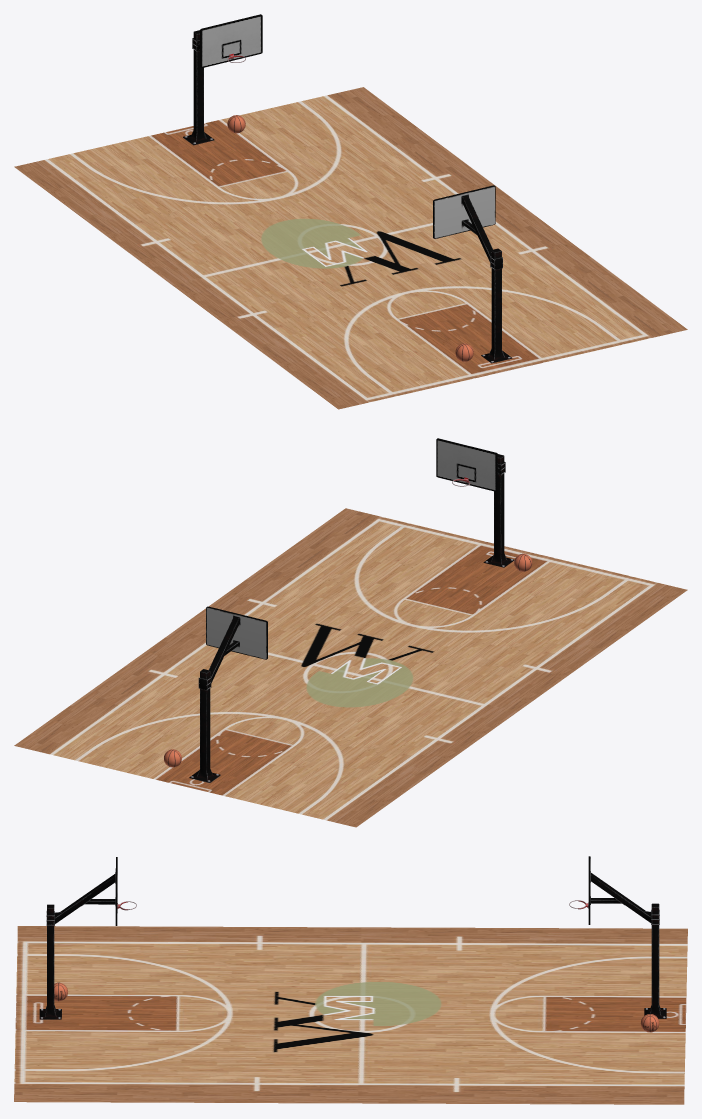
The model's file is bballcourt-western.gltf.
3 renders of one model, top to bottom at view 1: azimuth 30°, elevation 25°; view 2: azimuth 150°, elevation 25°; view 3: azimuth 270°, elevation 25°, orthographic. The views are drawn at different scales.
Visible parts, largest first — view 1: Object, whole_low 1, whole_low; view 2: Object, whole_low, whole_low 1; view 3: Object, whole_low, whole_low 1.
Boxes of the visible parts, x1,y1,x2,y2 form: Object: (14,87,687,409); whole_low 1: (433,185,512,363); whole_low: (183,14,262,145); Object: (14,508,687,827); whole_low: (189,606,267,782); whole_low 1: (436,438,514,567); Object: (14,926,687,1104); whole_low: (569,856,666,1018); whole_low 1: (39,857,136,1019).
Size of the model in its own units: 0.4532 by 0.1752 by 0.7374.
Materials: 5 (5 with a texture image).
